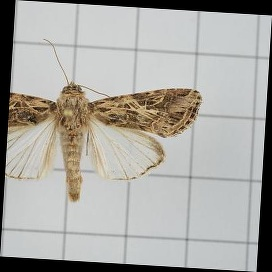Spodoptera litura: (9, 42, 202, 205)
